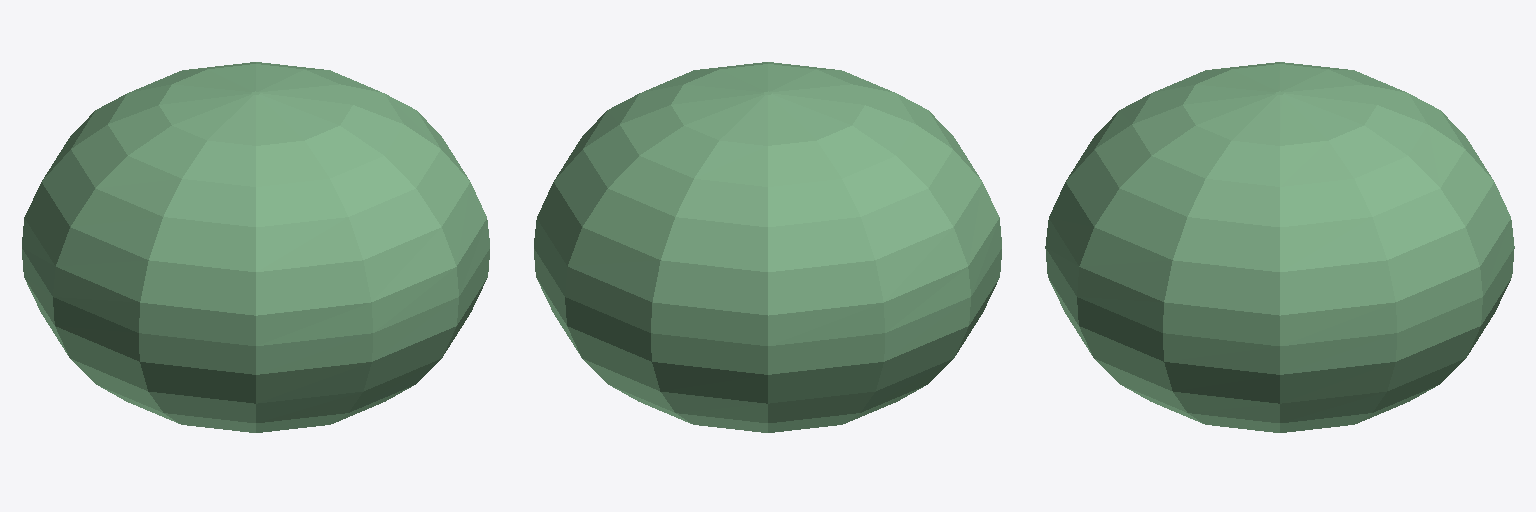
The model's file is Prickly_Pear_Cactus_Analytical_0.obj.
3 views of the same model, side by side, from view 1: azimuth 30°, elevation 25°; view 2: azimuth 150°, elevation 25°; view 3: azimuth 270°, elevation 25° (orthographic).
Parts seen in each view (by area): view 1: AnalyticalCrown; view 2: AnalyticalCrown; view 3: AnalyticalCrown.
Part boxes in pixels (x1,y1,x2,y2): AnalyticalCrown: (22,62,489,432); AnalyticalCrown: (534,62,1001,432); AnalyticalCrown: (1045,62,1514,432).
Size of the model in its own units: 0.98 by 0.75 by 0.98.